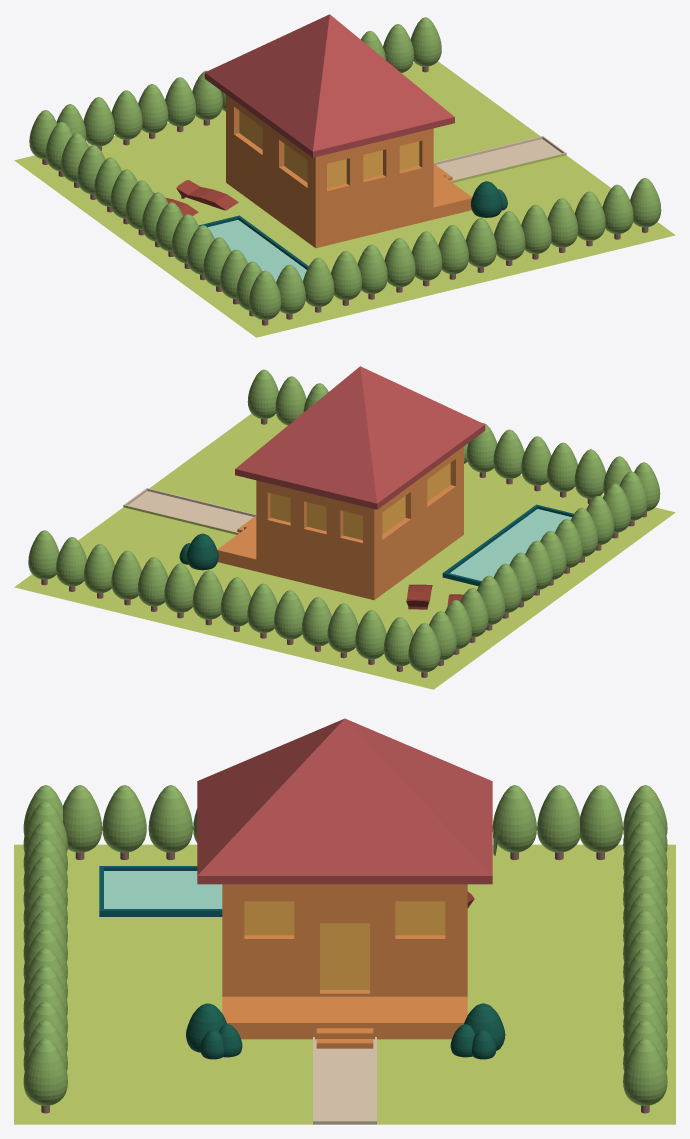
Rendered from house.gltf.
3 renders of one model, top to bottom at view 1: azimuth 30°, elevation 25°; view 2: azimuth 150°, elevation 25°; view 3: azimuth 270°, elevation 25°, orthographic. The views are drawn at different scales.
Visible parts, largest first — view 1: Cube.001; view 2: Cube.001; view 3: Cube.001.
Boxes of the visible parts, <box> form: Cube.001: <box>14,14,675,337</box>; Cube.001: <box>14,366,675,689</box>; Cube.001: <box>14,718,675,1124</box>.
Bounding box in the file's own units: 39.29 × 17.09 × 39.29.
Materials: 1 (1 with a texture image).
